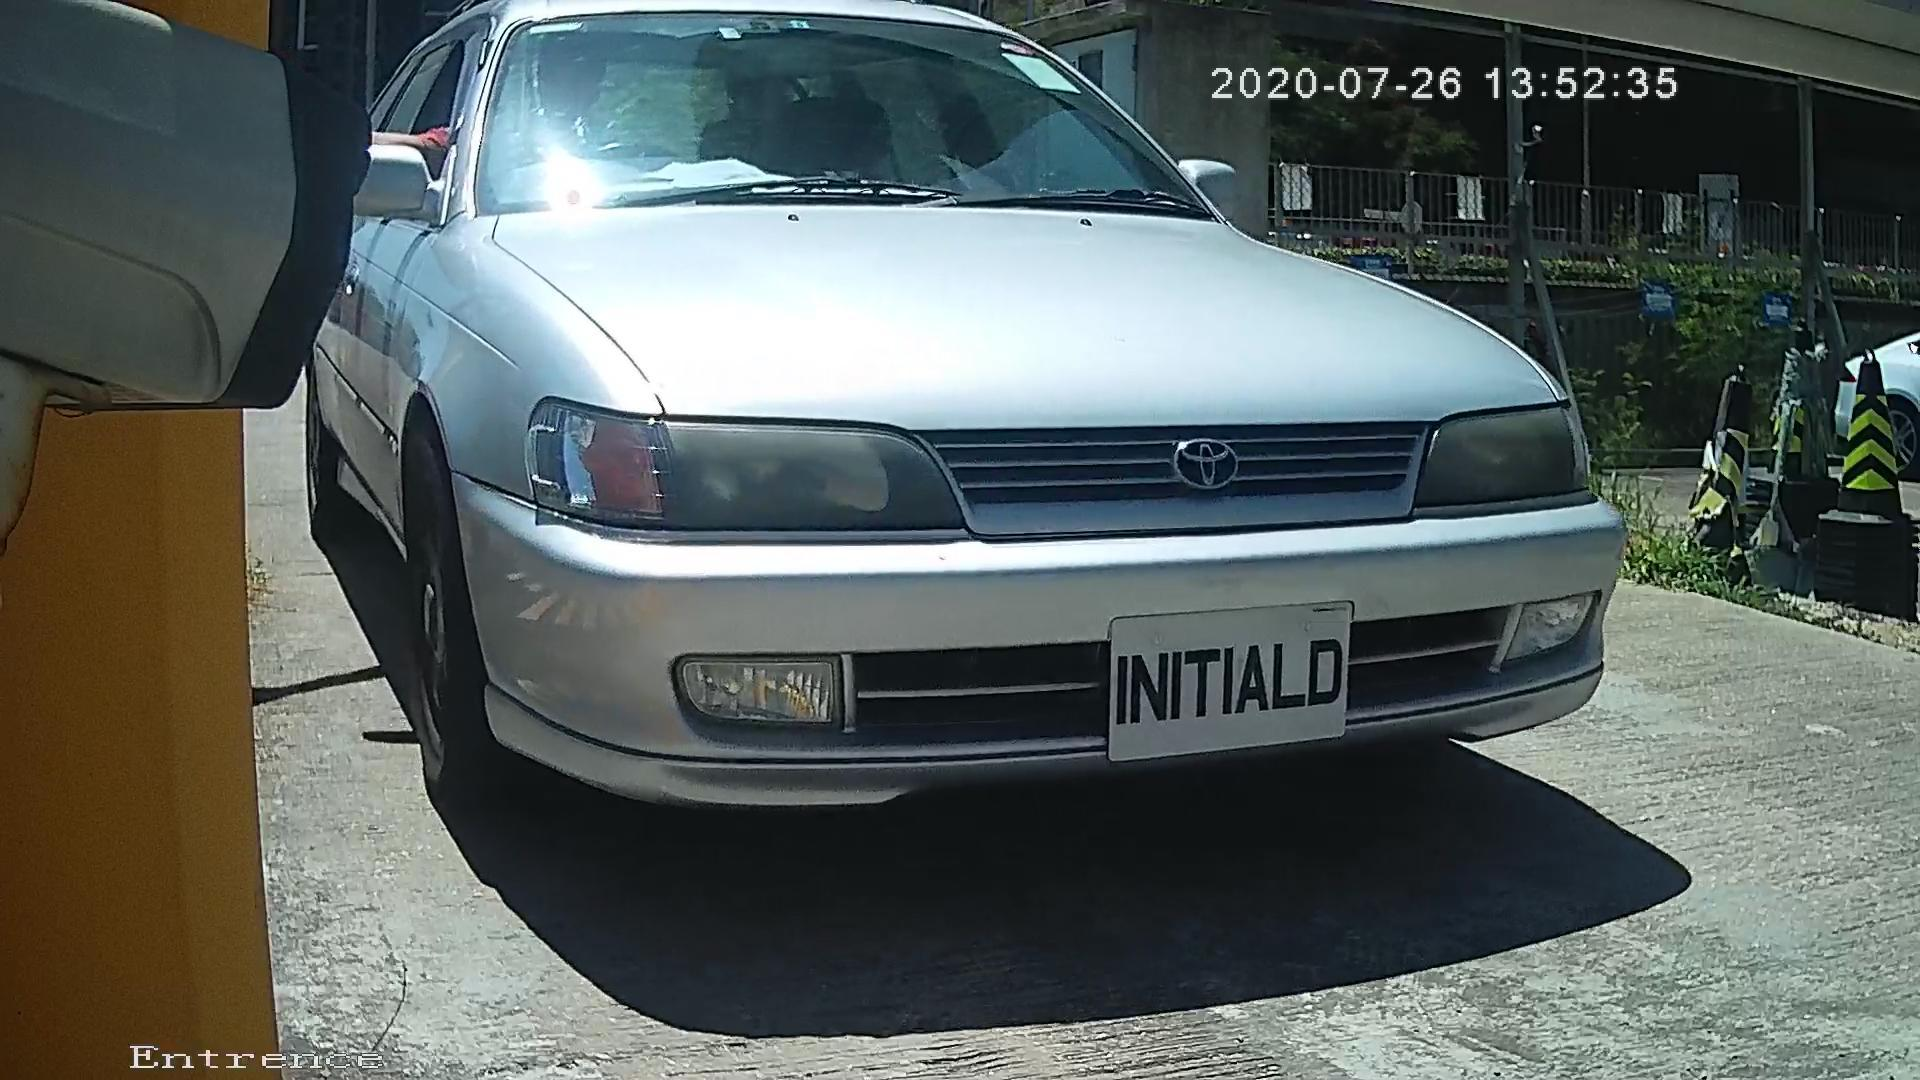privatecar: (291, 29, 1698, 960)
